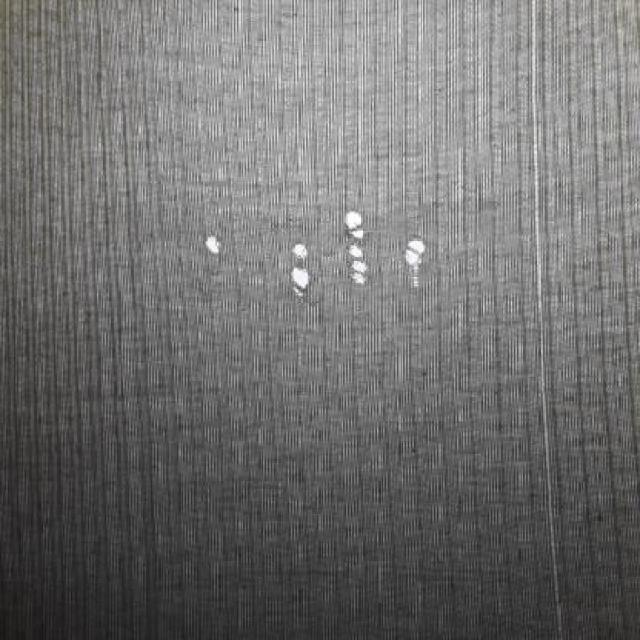seam: (167, 168, 257, 324), (330, 176, 378, 322), (273, 209, 322, 326), (396, 213, 436, 330)
